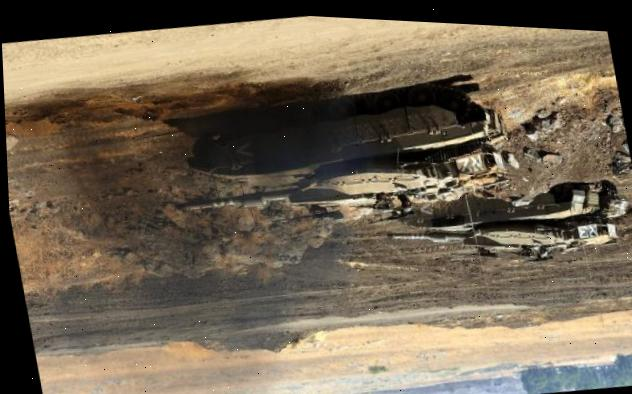tank: (137, 51, 535, 255), (377, 164, 632, 286)
